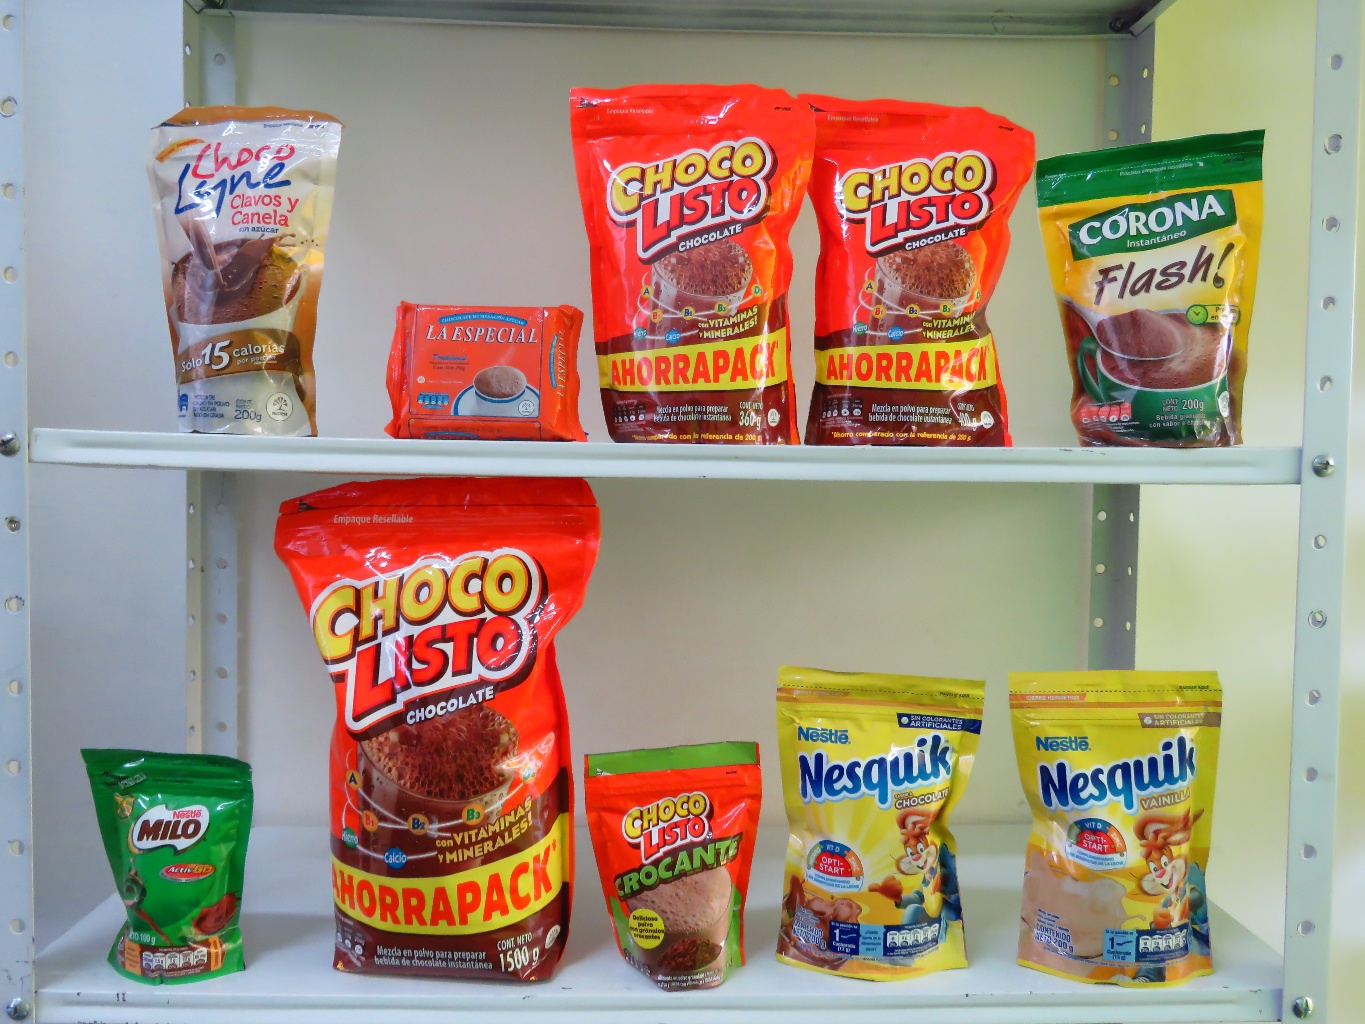COL0170102DYP10000: (585, 735, 769, 994)
COL0170103DYP1,500: (265, 485, 600, 989)
COL0170103DYP36000: (564, 75, 809, 451)
COL0170103DYP40000: (807, 84, 1033, 447)
COL0170203DYP10000: (71, 731, 279, 983)
COL0170303DYP20000: (773, 668, 992, 986)
COL0170306DYP20000: (997, 660, 1236, 998)
